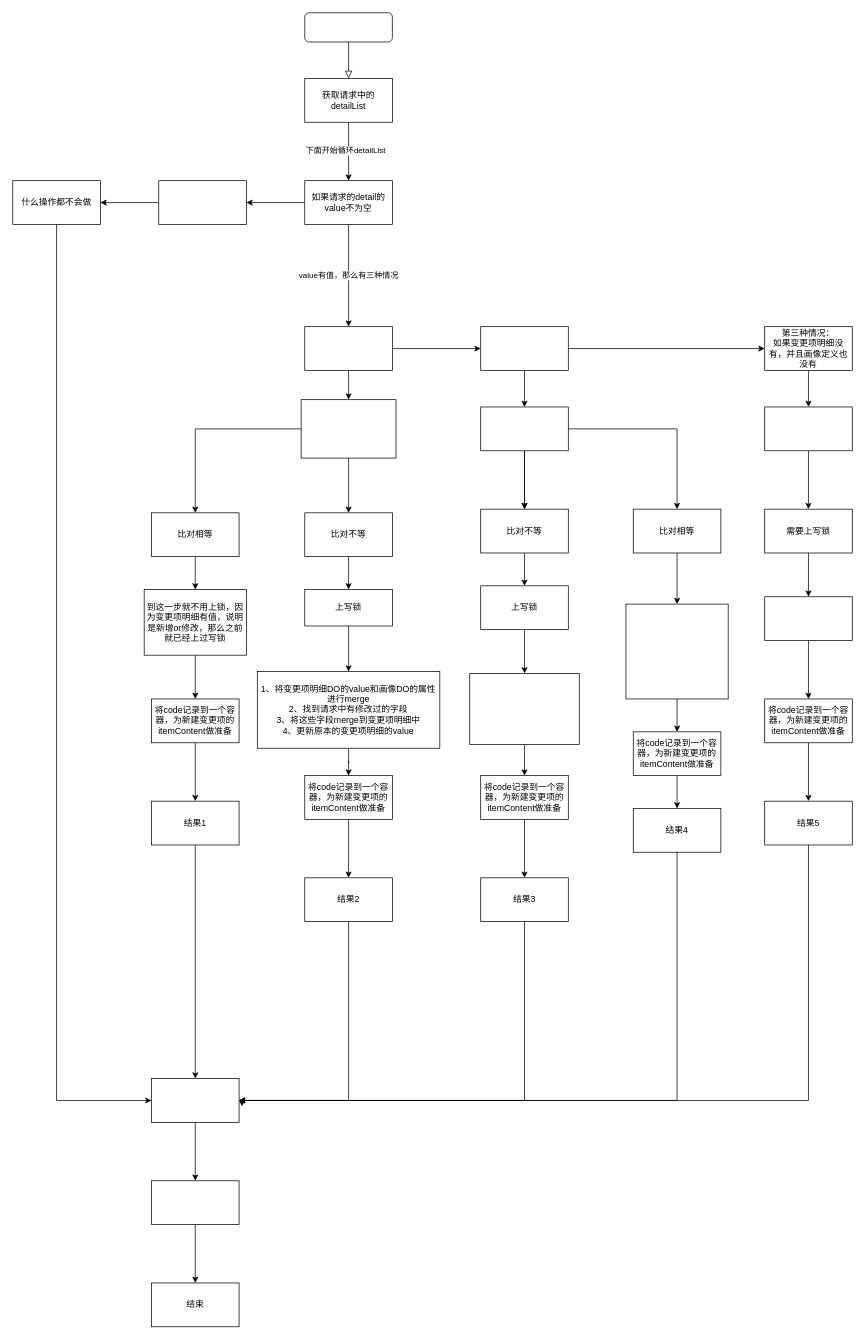
Image size: 865x1340. Some labels were removed from this diagram. The shapes that lost their labels are listed below. From the top down, each one's box as (x1, y1, x2, y2) in pixels, then its label:
(304, 12, 392, 42): 新增变更项
(158, 180, 246, 224): 如果detail的value为空
(304, 326, 392, 370): 第一种情况： 从变更项明细中查询画像DO
(480, 326, 568, 370): 第二种情况： 如果变更项明细没有则从画像定义中查询出来画像DO
(300, 399, 396, 458): 1、查出来的变更项明细的value跟画像定义merge完之后 2、跟请求过来的value进行比对
(480, 406, 568, 451): 比对请求过来的value和画像DO的必要属性
(764, 406, 852, 451): 这种情况就是新增变更项明细
(764, 596, 852, 641): 新增变更项明细记录
(625, 603, 728, 699): 这一步需要为definitionCode上读锁，原因是变更项明细没有该code记录，也就是之前没有上过写锁，那么就要上读锁来保证资源被锁定
(469, 673, 579, 745): 1、将请求中修改的字段跟画像DO的字段进行对比 2、找到修改过的字段 3、新增变更项明细记录
(151, 1078, 239, 1122): 收集完所有的code后
(151, 1180, 239, 1225): 新增变更项记录
